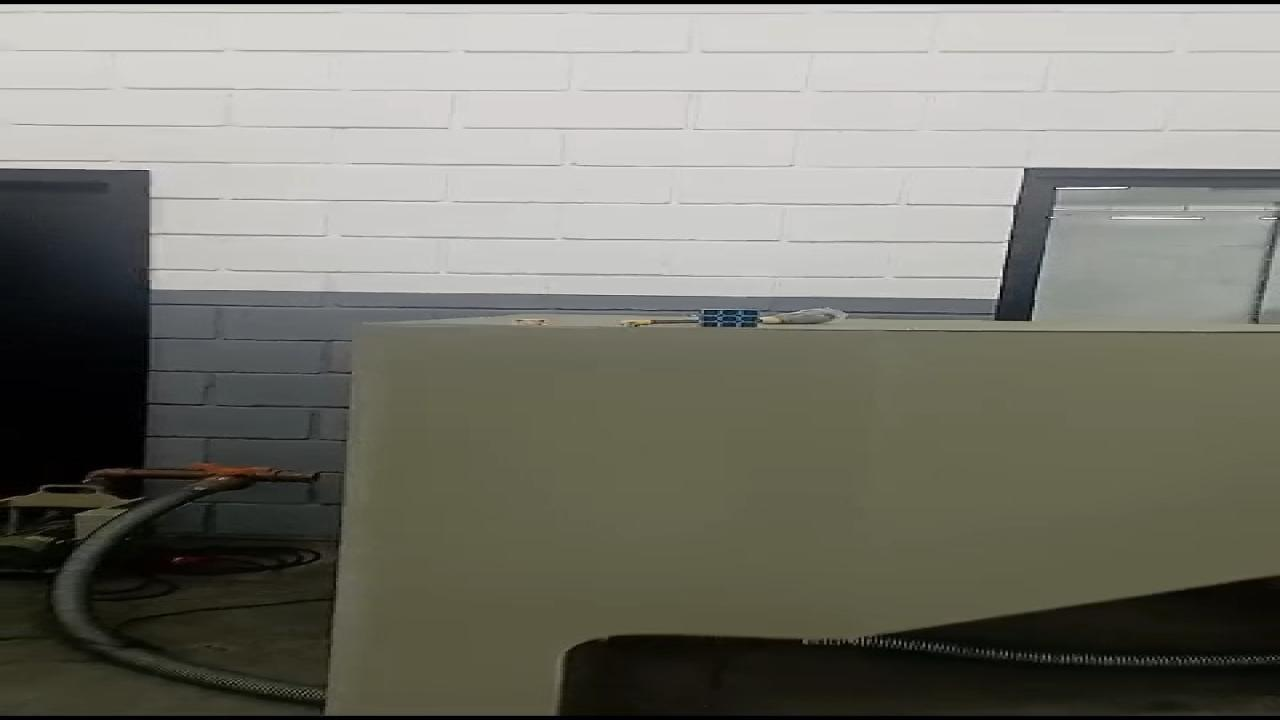Cube: (699, 309, 759, 328)
